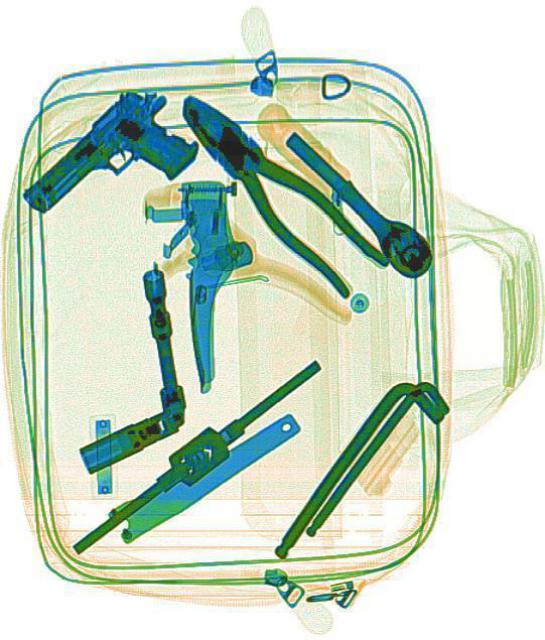Gun: (17, 71, 207, 269)
Pliers: (160, 70, 389, 308)
